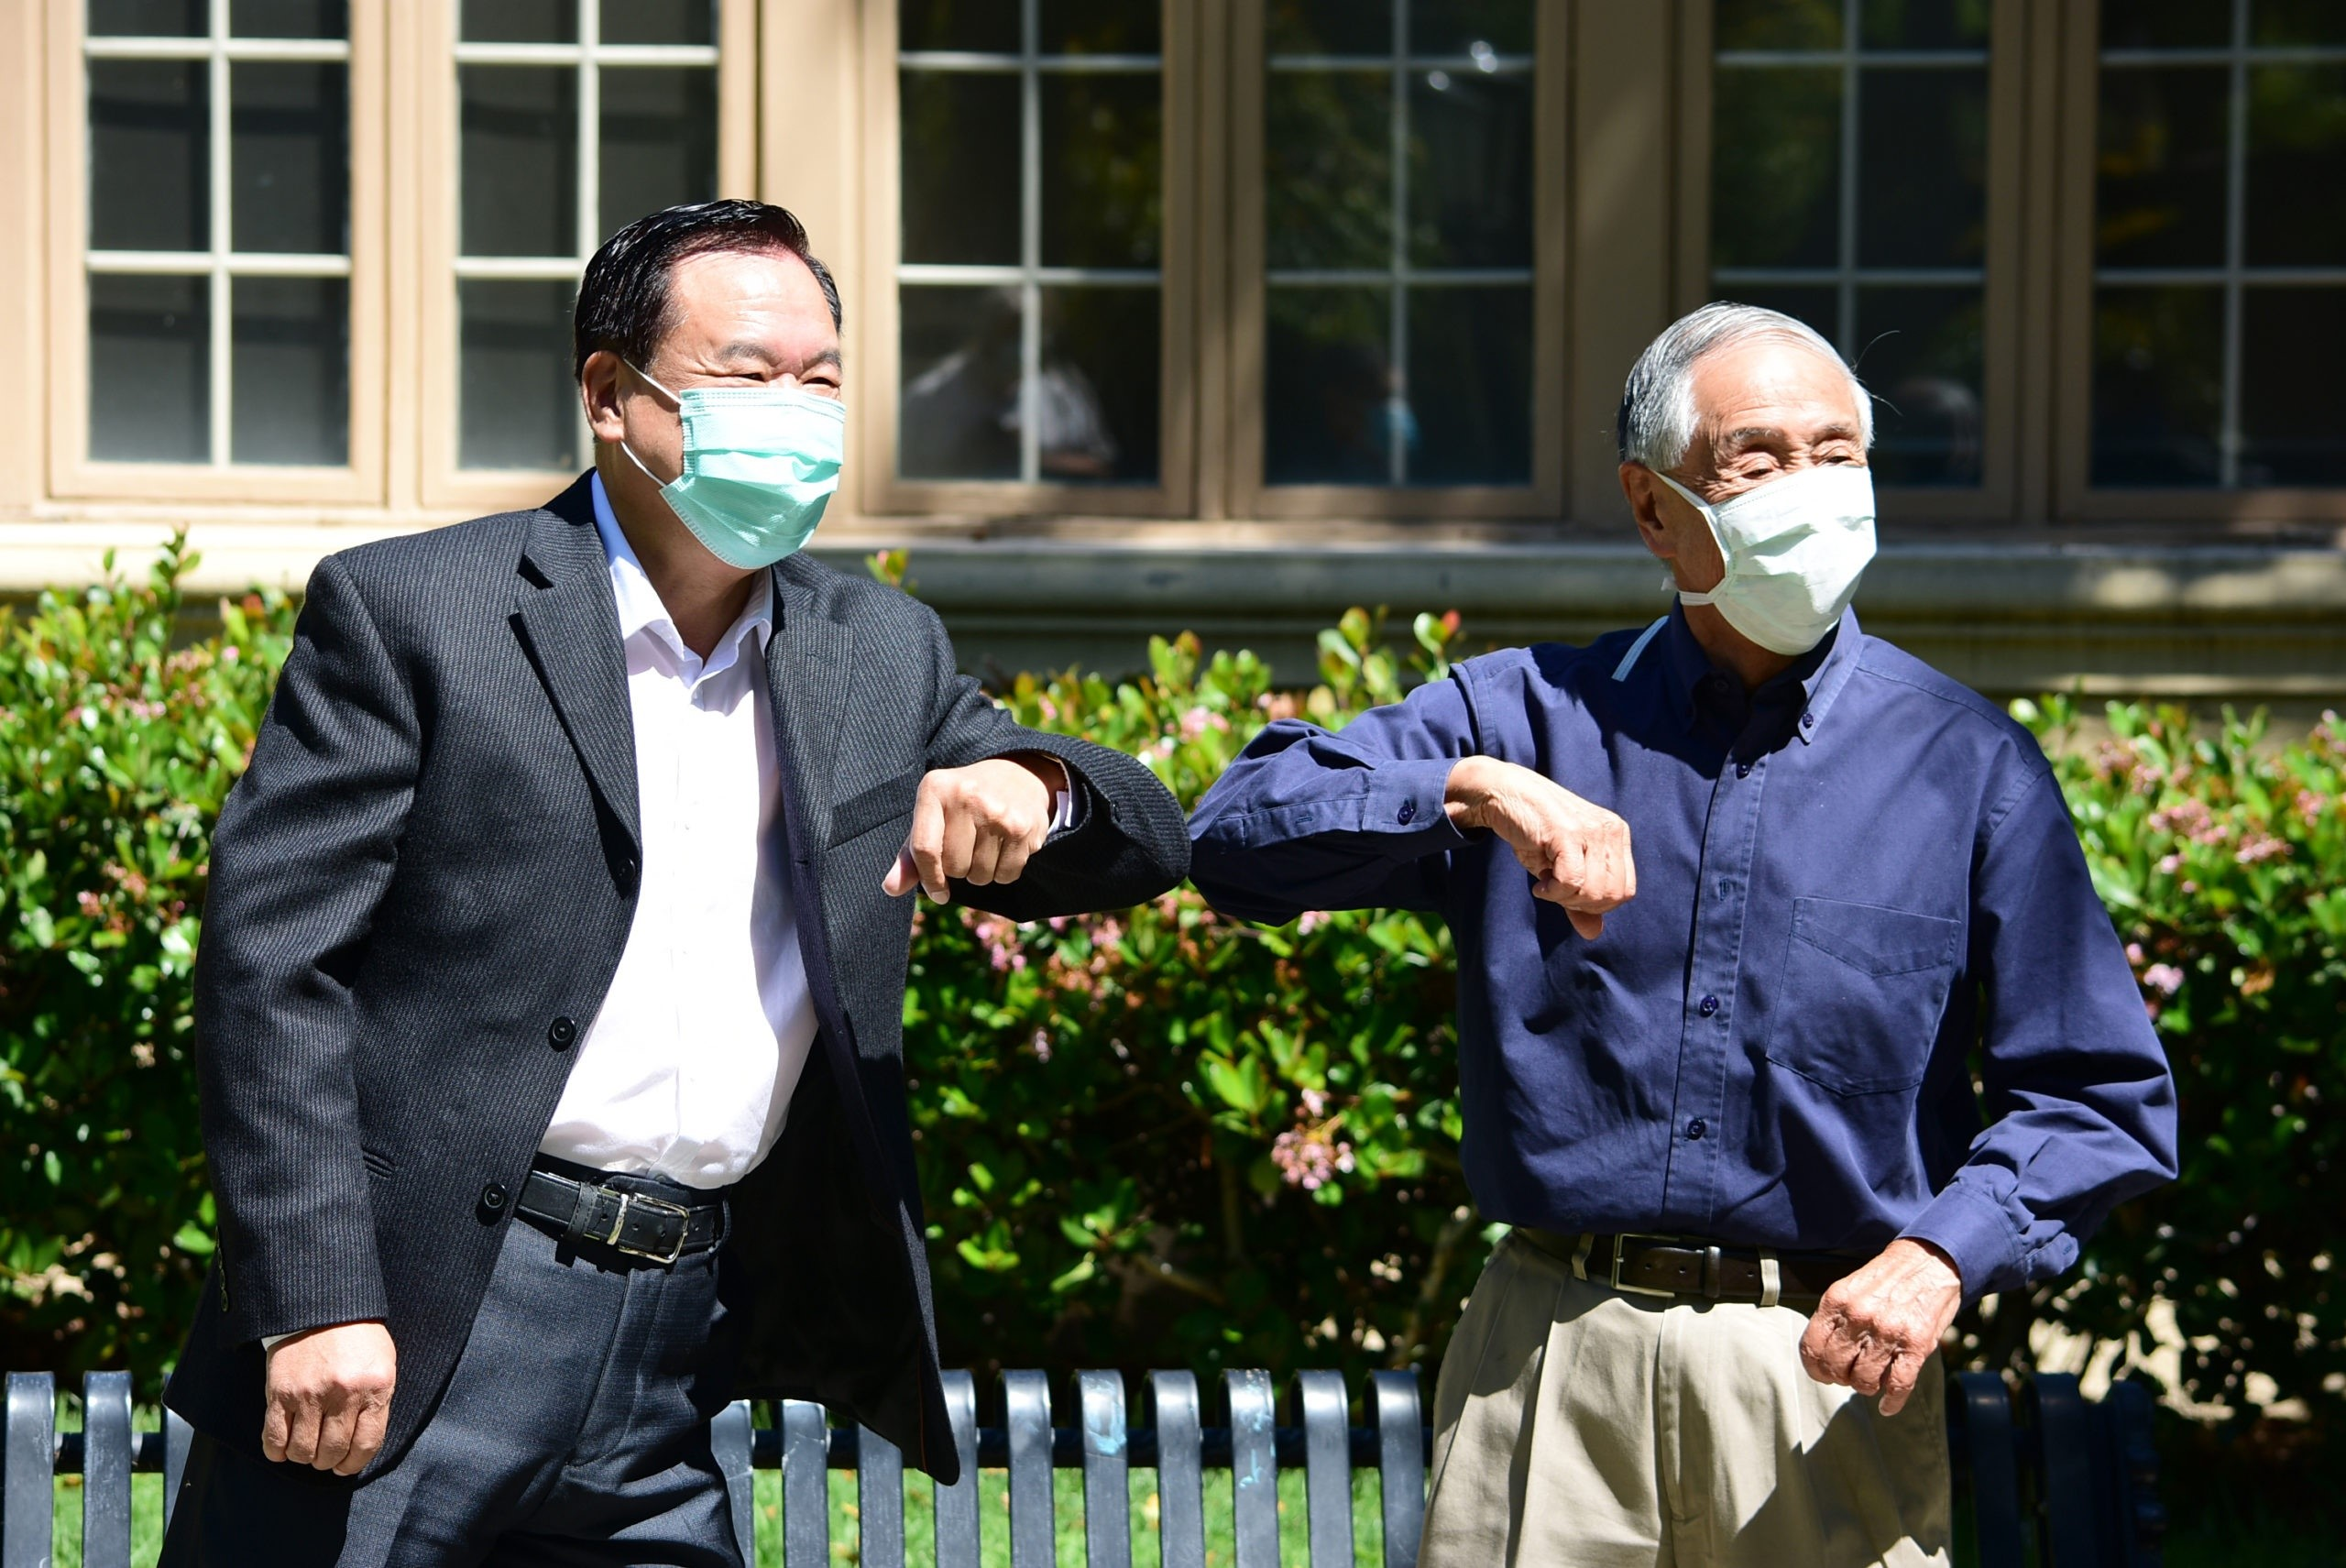face_with_mask: (583, 190, 867, 581), (1592, 311, 1890, 678)
